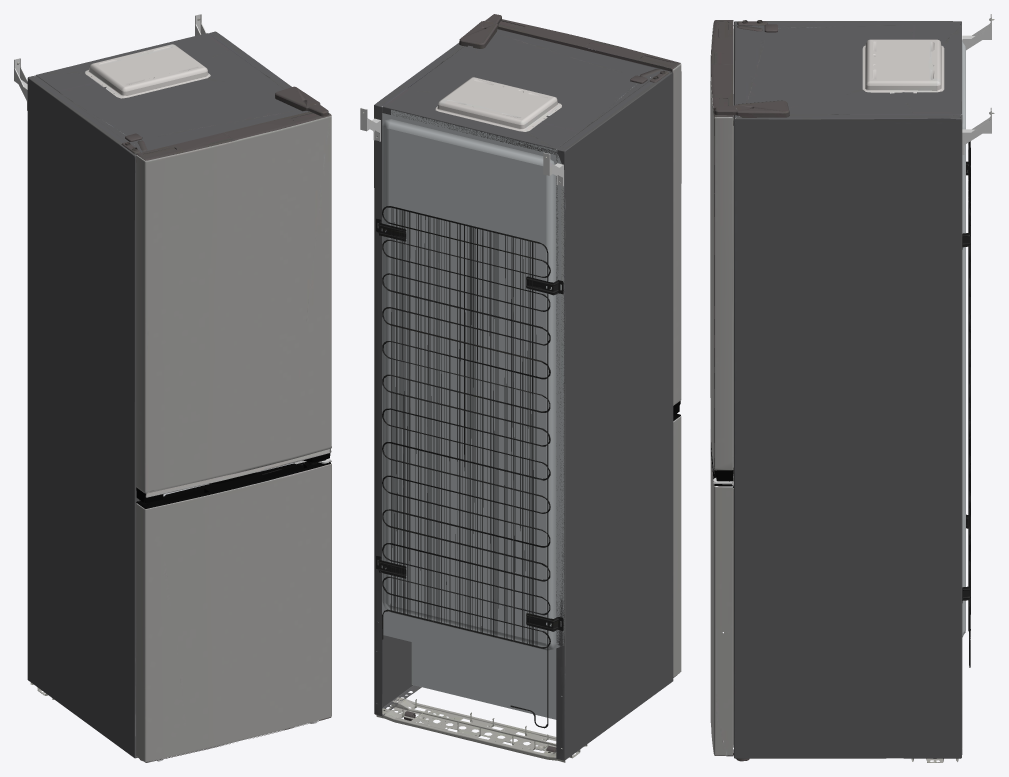
Rendered from ALINGSÅS lednice s mrazničkou - IKEA 500 samostatně stojícínerezavějící ocel (20567959).glb.
3 renders of one model, left to right at view 1: azimuth 30°, elevation 25°; view 2: azimuth 150°, elevation 25°; view 3: azimuth 270°, elevation 25°, orthographic. The views are drawn at different scales.
Parts seen in each view (by area): view 1: 20567959-ALINGSÃƒâ€¦S001; view 2: 20567959-ALINGSÃƒâ€¦S001; view 3: 20567959-ALINGSÃƒâ€¦S001.
Part boxes in pixels (left/top/right/bottom): 20567959-ALINGSÃƒâ€¦S001: left=14, top=14, right=331, bottom=762; 20567959-ALINGSÃƒâ€¦S001: left=360, top=14, right=681, bottom=762; 20567959-ALINGSÃƒâ€¦S001: left=710, top=14, right=994, bottom=762.
Bounding box in the file's own units: 0.5936 × 1.87 × 0.7294.
2 materials, 2 textured.
